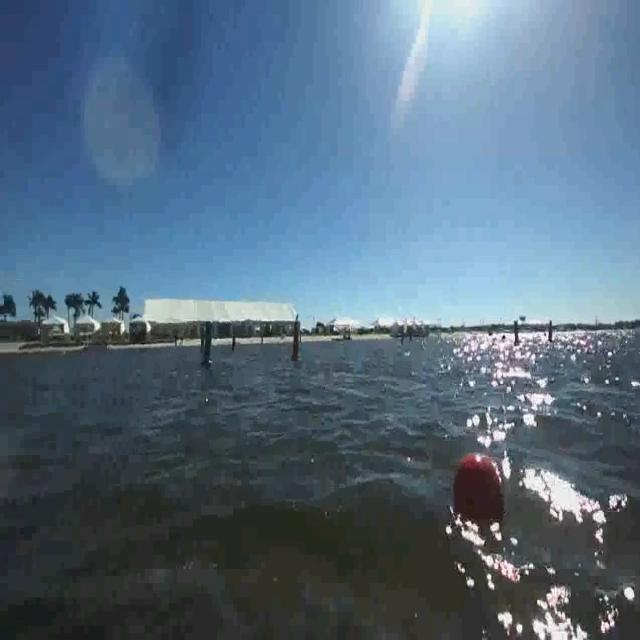green-column-buoy: (200, 322, 216, 369)
red-buoy: (450, 450, 504, 533)
red-column-buoy: (288, 323, 302, 363)
